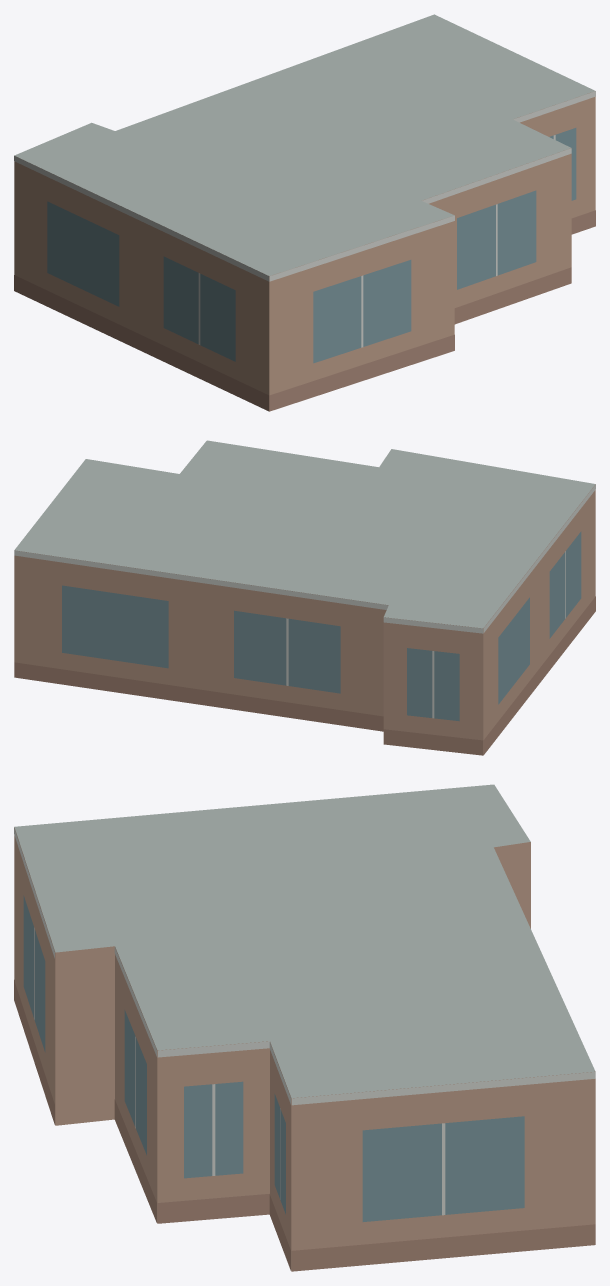
The model's file is survey-upis-32723724.glb.
3 renders of one model, top to bottom at view 1: azimuth 30°, elevation 25°; view 2: azimuth 150°, elevation 25°; view 3: azimuth 270°, elevation 25°, orthographic. The views are drawn at different scales.
Parts seen in each view (by area): view 1: survey-upis-32723724.tmp; view 2: survey-upis-32723724.tmp; view 3: survey-upis-32723724.tmp.
Boxes of the visible parts, bbox=[...] form: survey-upis-32723724.tmp: bbox=[14, 14, 595, 411]; survey-upis-32723724.tmp: bbox=[14, 440, 595, 755]; survey-upis-32723724.tmp: bbox=[14, 784, 595, 1271].
Size of the model in its own units: 11.86 by 3.05 by 9.29.
